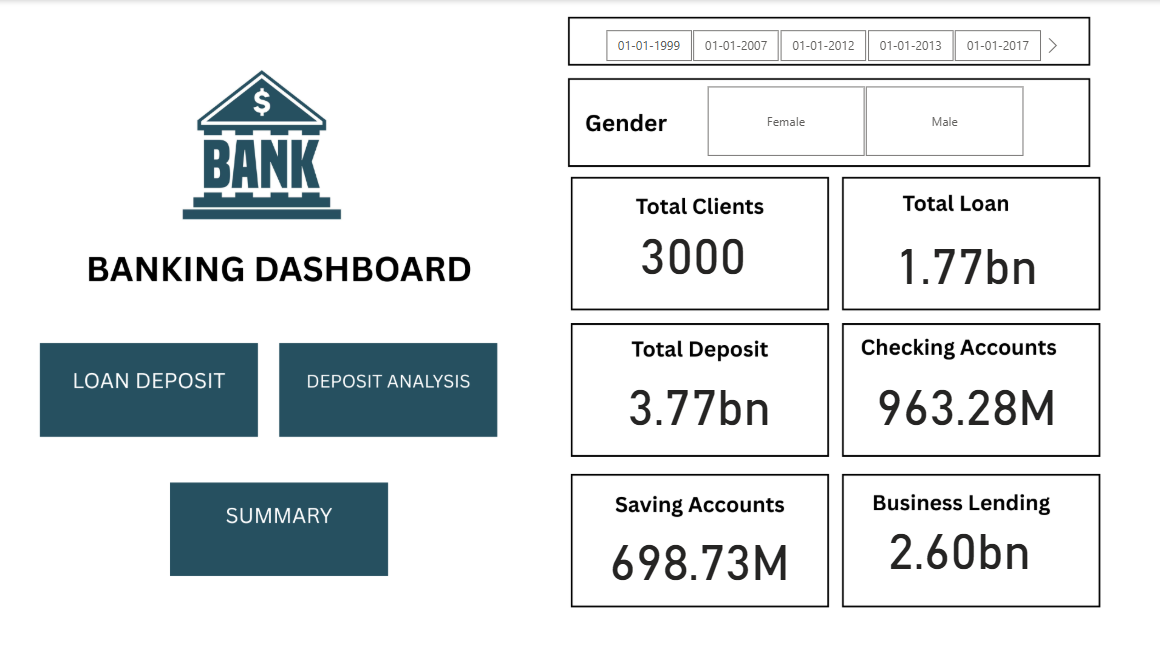

The page's visual inventory and layout, read from the dashboard file:
{"tool":"powerbi","page":{"name":"HOME","canvas":[1280,720],"ordinal":0},"visuals":[{"type":"card","fields":{"Values":["CountNonNull(Banking.Name)"]},"box":[677.9,229.2,166,90.6],"z":0},{"type":"card","fields":{"Values":["Sum(Banking.Bank Loans)"]},"box":[955.1,251.1,211.3,68.6],"z":1000},{"type":"card","fields":{"Values":["Banking.Total Deposit"]},"box":[677.9,402.1,179.8,76.8],"z":2000},{"type":"card","fields":{"Values":["Sum(Banking.Checking Accounts)"]},"box":[955.1,402.1,211.3,76.8],"z":3000},{"type":"card","fields":{"Values":["Sum(Banking.Saving Accounts)"]},"box":[650.4,565.4,234.6,90.6],"z":4000},{"type":"card","fields":{"Values":["Sum(Banking.Business Lending)"]},"box":[931.7,540.7,242.9,115.3],"z":5000},{"type":"slicer","fields":{"Values":["Banking.GenderId"]},"box":[750.6,87.8,396.6,90.6],"z":6000},{"type":"slicer","fields":{"Values":["Banking.Year of Joining"]},"box":[639.5,26.1,526.9,48],"z":7000},{"type":"actionButton","box":[49.4,382.8,223.7,81],"z":7001},{"type":"actionButton","box":[319.7,382.8,215.4,81],"z":7002},{"type":"actionButton","box":[199,535.2,216.8,89.2],"z":7003}]}

Visuals, with their boxes in screenshot pixels (x1, y1, x2, y2), scaled from the page's 1280x720 canvas onto the 1160x651 screenshot:
card - CountNonNull(Banking.Name): {"left": 614, "top": 207, "right": 765, "bottom": 289}
card - Sum(Banking.Bank Loans): {"left": 866, "top": 227, "right": 1057, "bottom": 289}
card - Banking.Total Deposit: {"left": 614, "top": 364, "right": 777, "bottom": 433}
card - Sum(Banking.Checking Accounts): {"left": 866, "top": 364, "right": 1057, "bottom": 433}
card - Sum(Banking.Saving Accounts): {"left": 589, "top": 511, "right": 802, "bottom": 593}
card - Sum(Banking.Business Lending): {"left": 844, "top": 489, "right": 1064, "bottom": 593}
slicer - Banking.GenderId: {"left": 680, "top": 79, "right": 1040, "bottom": 161}
slicer - Banking.Year of Joining: {"left": 580, "top": 24, "right": 1057, "bottom": 67}
actionButton: {"left": 45, "top": 346, "right": 247, "bottom": 419}
actionButton: {"left": 290, "top": 346, "right": 485, "bottom": 419}
actionButton: {"left": 180, "top": 484, "right": 377, "bottom": 565}
